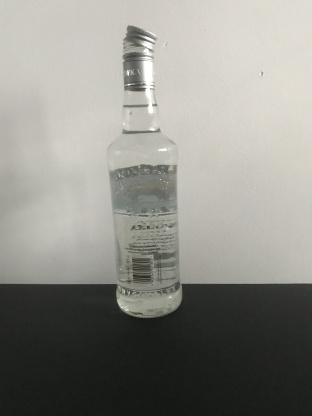nakretka: (121, 23, 158, 92)
